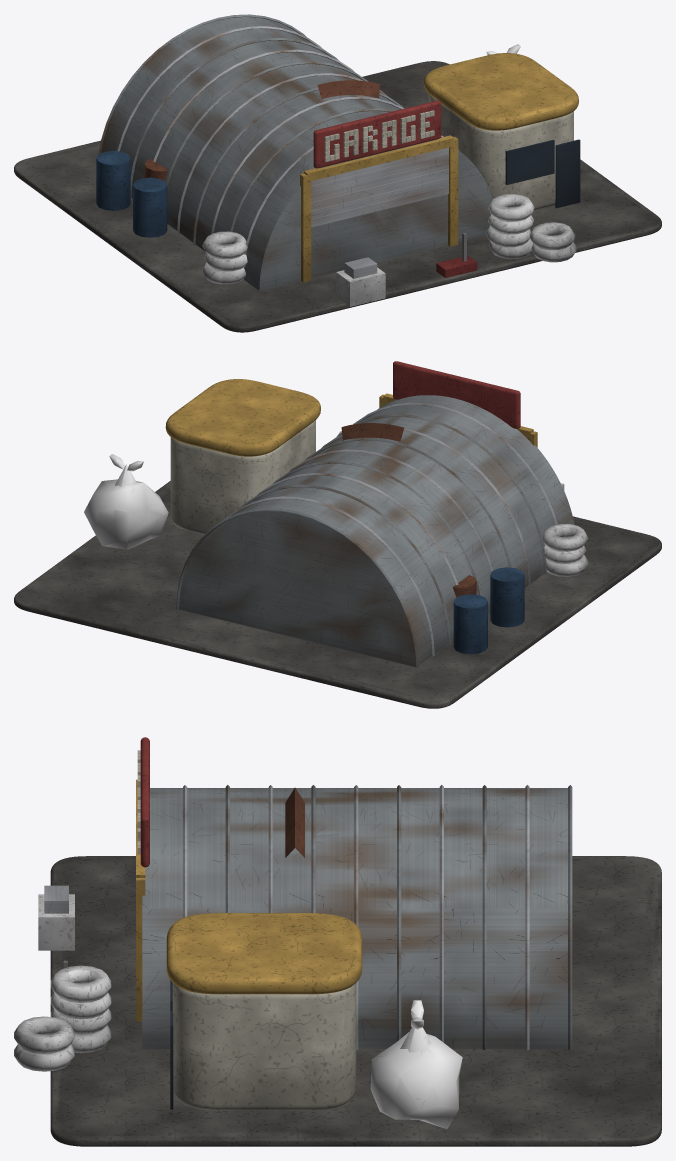
File: garage.glb
3 views of the same model, one above another, from view 1: azimuth 30°, elevation 25°; view 2: azimuth 150°, elevation 25°; view 3: azimuth 270°, elevation 25° (orthographic). The views are drawn at different scales.
Parts seen in each view (by area): view 1: garage, group_24; view 2: garage, trash_bag_111; view 3: garage, trash_bag_111.
Boxes of the visible parts, <box> form: garage: <box>14,14,661,332</box>; group_24: <box>324,110,434,161</box>; garage: <box>14,361,661,708</box>; trash_bag_111: <box>84,454,168,549</box>; garage: <box>14,737,661,1146</box>; trash_bag_111: <box>370,1000,462,1128</box>.
Bounding box in the file's own units: 22.35 × 7.3 × 21.19.
13 materials, 13 textured.
